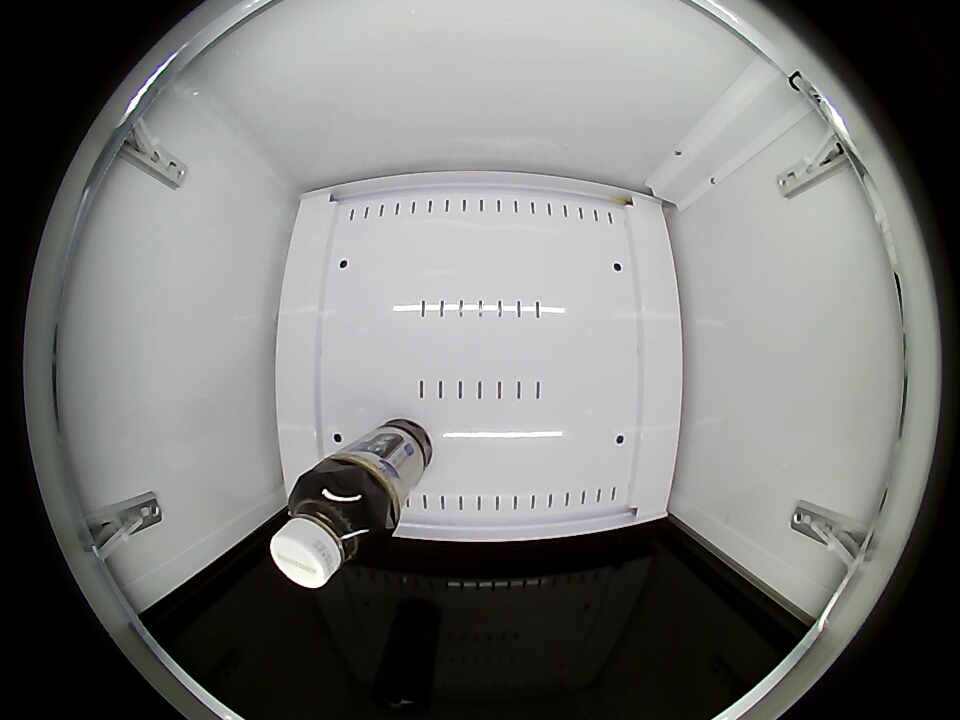wulongcha: (271, 473, 388, 589)
